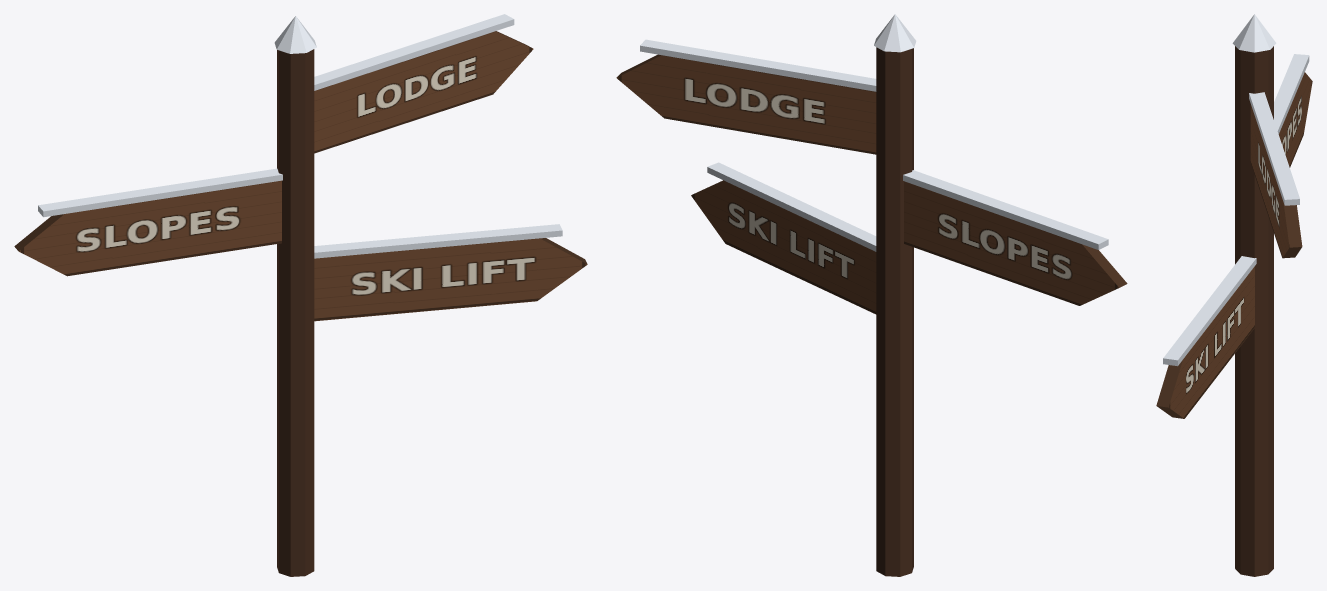
File: signpost.glb
The picture shows the model from 3 angles, left to right: view 1: azimuth 30°, elevation 25°; view 2: azimuth 150°, elevation 25°; view 3: azimuth 270°, elevation 25°; orthographic projection.
Parts seen in each view (by area): view 1: signpost_Signs, signpost_Main; view 2: signpost_Signs, signpost_Main; view 3: signpost_Main, signpost_Signs.
Boxes of the visible parts, x1,y1,x2,y2 form: signpost_Signs: [14, 31, 587, 321]; signpost_Main: [38, 14, 562, 576]; signpost_Signs: [616, 54, 1127, 314]; signpost_Main: [640, 14, 1108, 576]; signpost_Main: [1163, 14, 1309, 576]; signpost_Signs: [1156, 72, 1312, 418].
Bounding box in the file's own units: 9.12 × 9.45 × 2.41.
Materials: 4 (4 with a texture image).
